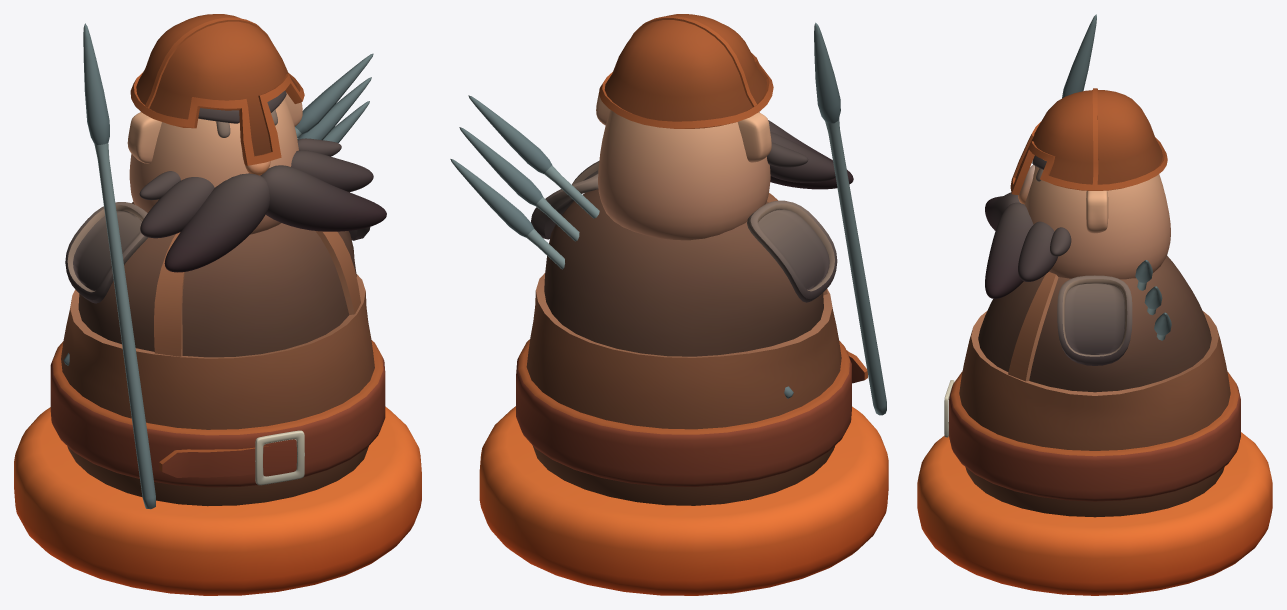
Rendered from Javeliner.fbx.
3 renders of one model, left to right at view 1: azimuth 30°, elevation 25°; view 2: azimuth 150°, elevation 25°; view 3: azimuth 270°, elevation 25°, orthographic. The views are drawn at different scales.
Parts seen in each view (by area): view 1: javeliner_Base_GEO, javeliner_Stand_Geo, javeliner_Weapon_GEO; view 2: javeliner_Base_GEO, javeliner_Stand_Geo, javeliner_Weapon_GEO; view 3: javeliner_Base_GEO, javeliner_Stand_Geo, javeliner_Weapon_GEO.
Boxes of the visible parts, x1,y1,x2,y2 form: javeliner_Base_GEO: (50,14,386,506); javeliner_Stand_Geo: (14,406,421,595); javeliner_Weapon_GEO: (83,23,155,509); javeliner_Base_GEO: (450,14,867,505); javeliner_Stand_Geo: (479,406,888,595); javeliner_Weapon_GEO: (814,22,886,415); javeliner_Base_GEO: (944,88,1240,517); javeliner_Stand_Geo: (917,432,1272,595); javeliner_Weapon_GEO: (1062,14,1096,98).
Bounding box in the file's own units: 83.58 × 114 × 80.04.
